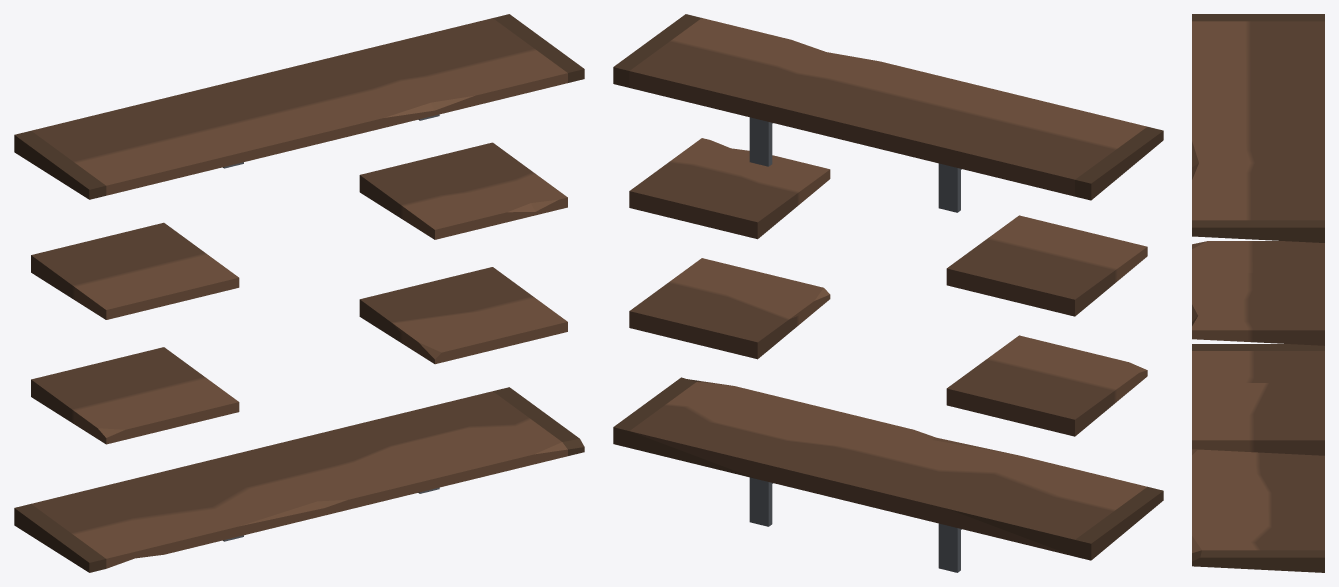
File: SM_Prop_Shelf_02.fbx
3 views of the same model, side by side, from view 1: azimuth 30°, elevation 25°; view 2: azimuth 150°, elevation 25°; view 3: azimuth 270°, elevation 25° (orthographic). The views are drawn at different scales.
Visible parts, largest first — view 1: SM_Prop_Shelf_02; view 2: SM_Prop_Shelf_02; view 3: SM_Prop_Shelf_02.
Part boxes in pixels (x1,y1,x2,y2): SM_Prop_Shelf_02: [14, 14, 584, 572]; SM_Prop_Shelf_02: [613, 14, 1163, 572]; SM_Prop_Shelf_02: [1192, 14, 1324, 572].
Size of the model in its own units: 250 by 212 by 65.72.
